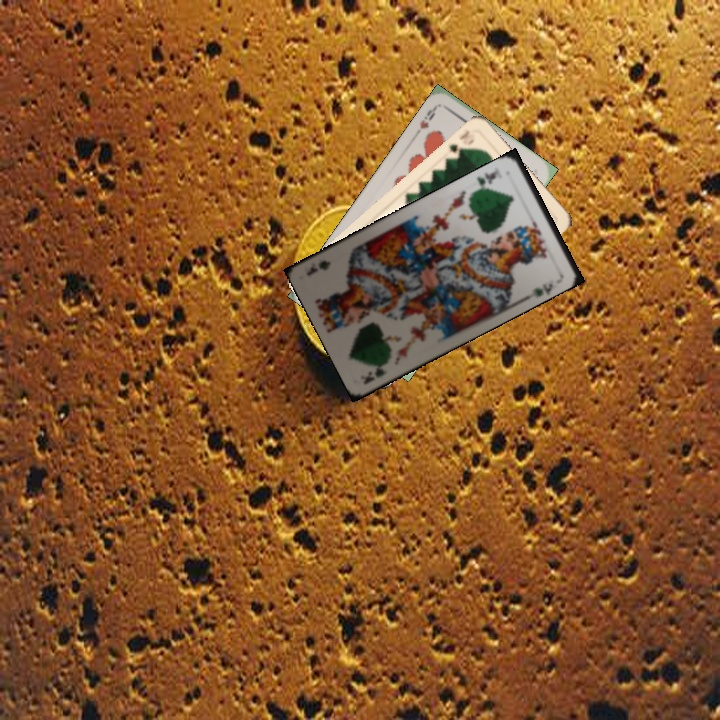G10: (445, 125, 477, 156)
GK: (357, 361, 388, 387), (472, 167, 500, 194)
H9: (416, 101, 440, 132)
